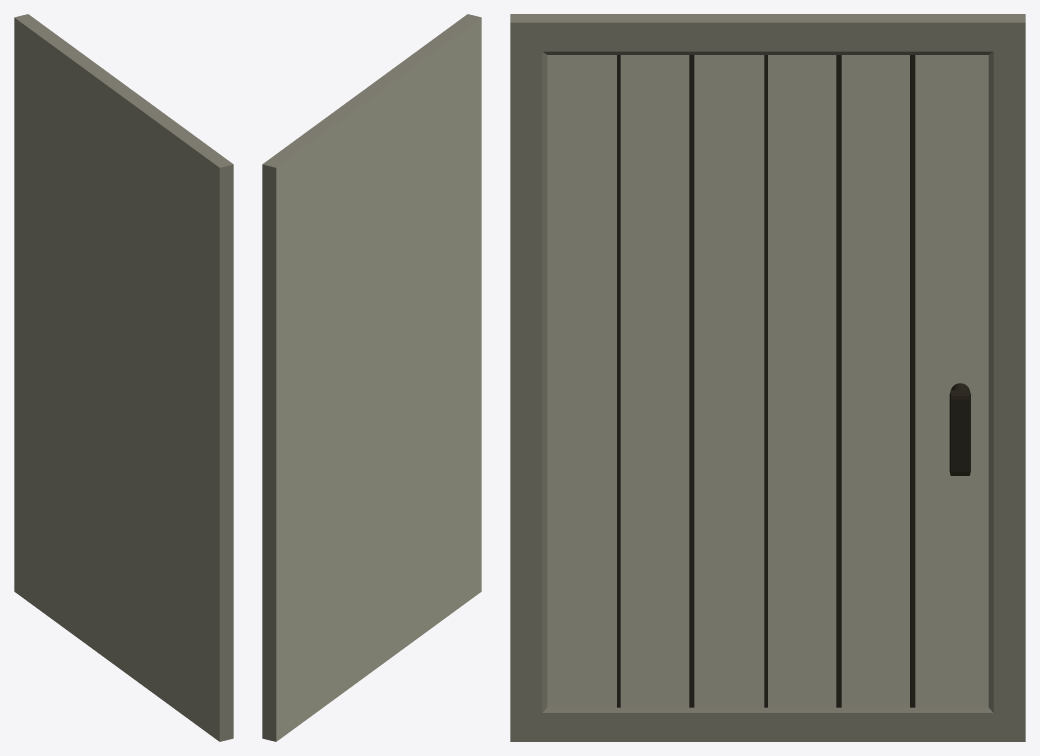
File: PantryDoorV2.fbx
3 renders of one model, left to right at view 1: azimuth 30°, elevation 25°; view 2: azimuth 150°, elevation 25°; view 3: azimuth 270°, elevation 25°, orthographic. The views are drawn at different scales.
Parts seen in each view (by area): view 1: Door; view 2: Door; view 3: Door.
Part boxes in pixels (left/top/right/bottom): Door: left=14, top=14, right=233, bottom=741; Door: left=262, top=14, right=481, bottom=741; Door: left=510, top=14, right=1025, bottom=741.
Size of the model in its own units: 1476 by 145 by 2275.
